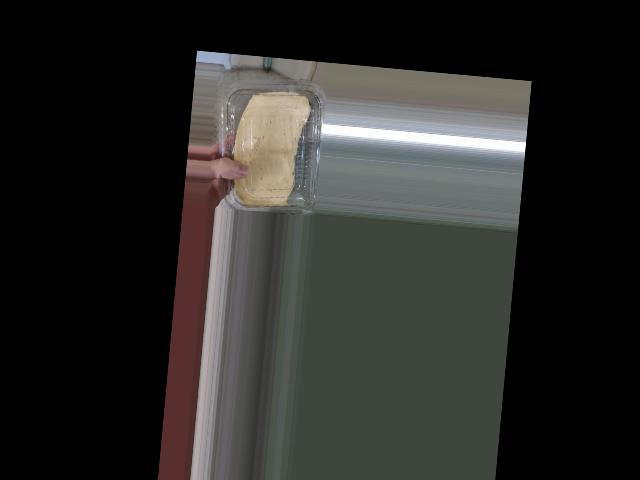cheese: (222, 74, 327, 217)
